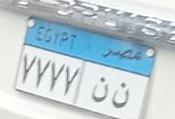7: (65, 66, 80, 99), (50, 63, 64, 93), (22, 54, 35, 83), (37, 59, 49, 88)
noon: (112, 79, 129, 113), (91, 75, 109, 105)
